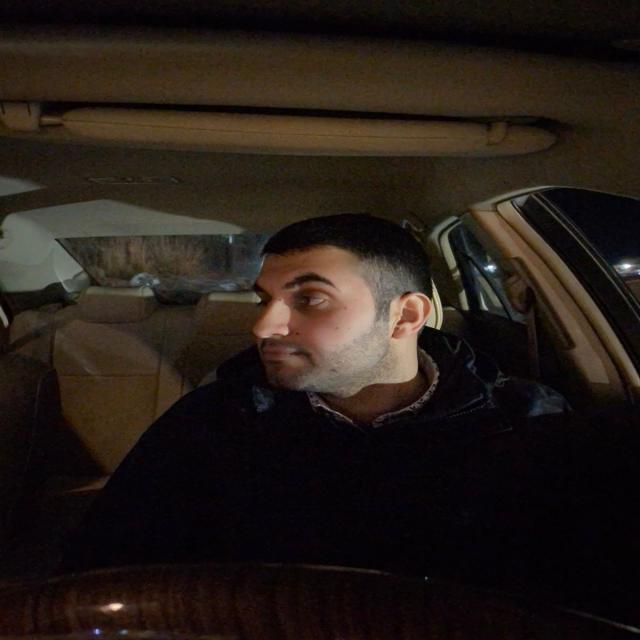LeftRight: (237, 208, 450, 397)
